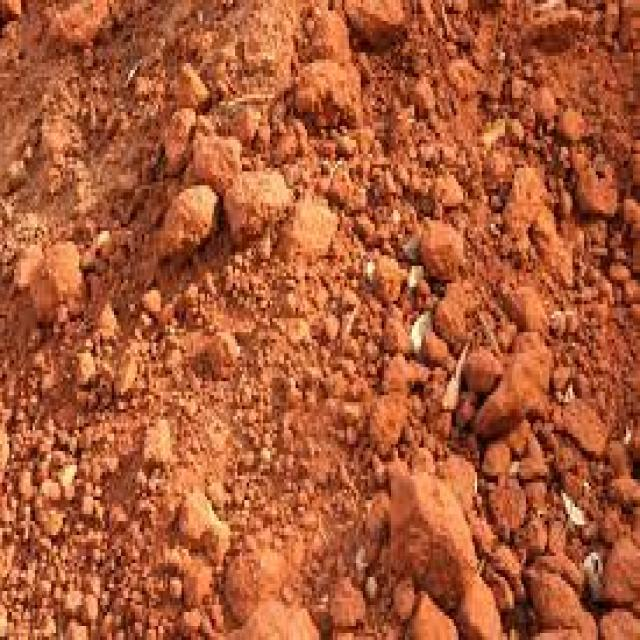Red Soil: (70, 82, 608, 549)
